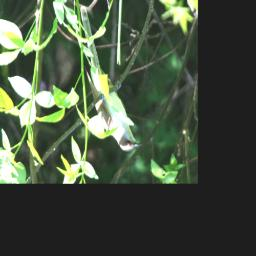Cuckoo: (80, 7, 143, 152)
